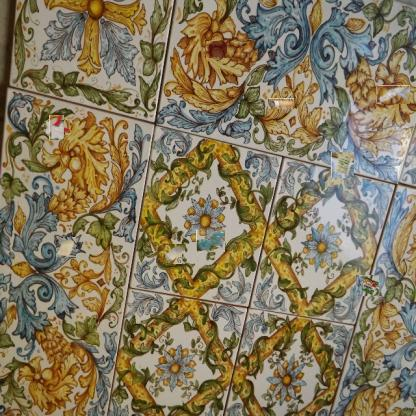dirty: (376, 85, 410, 104), (331, 152, 354, 178), (356, 274, 380, 296), (163, 244, 185, 264), (47, 117, 67, 138), (56, 237, 76, 258), (268, 98, 294, 109)
liquid: (196, 230, 225, 252), (205, 40, 227, 58)
